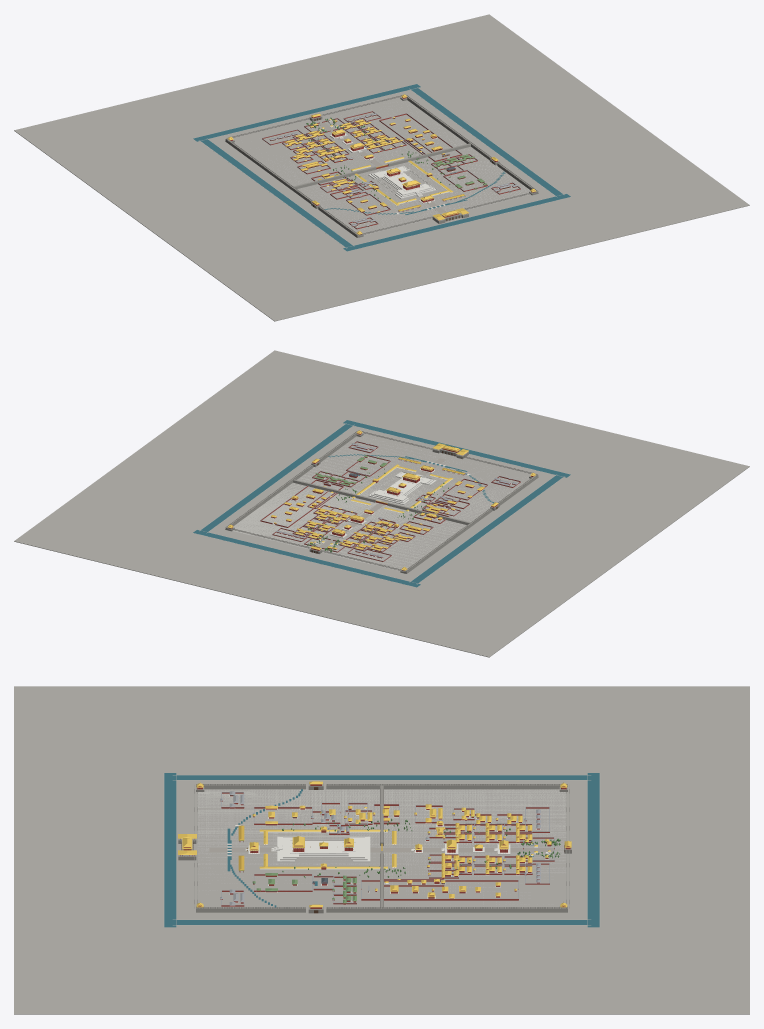
Rendered from FC_city.glb.
3 views of the same model, one above another, from view 1: azimuth 30°, elevation 25°; view 2: azimuth 150°, elevation 25°; view 3: azimuth 270°, elevation 25° (orthographic). The views are drawn at different scales.
Parts seen in each view (by area): view 1: OBJ_earth, OBJ_moat, OBJ_walls, OBJ_paving, OBJ_moatbank, OBJ_merlons, TER_t3; view 2: OBJ_earth, OBJ_paving, OBJ_moat, OBJ_walls, OBJ_merlons, OBJ_moatbank, TER_t3; view 3: OBJ_earth, OBJ_paving, OBJ_moat, OBJ_walls, OBJ_moatbank, OBJ_merlons, TER_t3, OBJ_axispath, CX_ningshou_w_wall.
Boxes of the visible parts, x1,y1,x2,y2 form: OBJ_earth: [14, 14, 749, 321]; OBJ_moat: [193, 84, 570, 251]; OBJ_walls: [225, 95, 538, 237]; OBJ_paving: [264, 102, 530, 234]; OBJ_moatbank: [193, 84, 570, 251]; OBJ_merlons: [226, 95, 538, 235]; TER_t3: [373, 166, 431, 195]; OBJ_earth: [14, 350, 749, 657]; OBJ_paving: [233, 437, 527, 569]; OBJ_moat: [193, 420, 570, 587]; OBJ_walls: [225, 431, 538, 573]; OBJ_merlons: [226, 431, 537, 571]; OBJ_moatbank: [193, 420, 570, 587]; TER_t3: [373, 472, 431, 501]; OBJ_earth: [14, 686, 749, 1014]; OBJ_paving: [197, 789, 566, 907]; OBJ_moat: [164, 773, 599, 927]; OBJ_walls: [196, 784, 567, 912]; OBJ_moatbank: [163, 773, 600, 926]; OBJ_merlons: [194, 784, 569, 908]; TER_t3: [283, 837, 364, 858]; OBJ_axispath: [209, 848, 554, 852]; CX_ningshou_w_wall: [361, 880, 518, 900].
Bounding box in the file's own units: 2000 × 36.44 × 1900.
